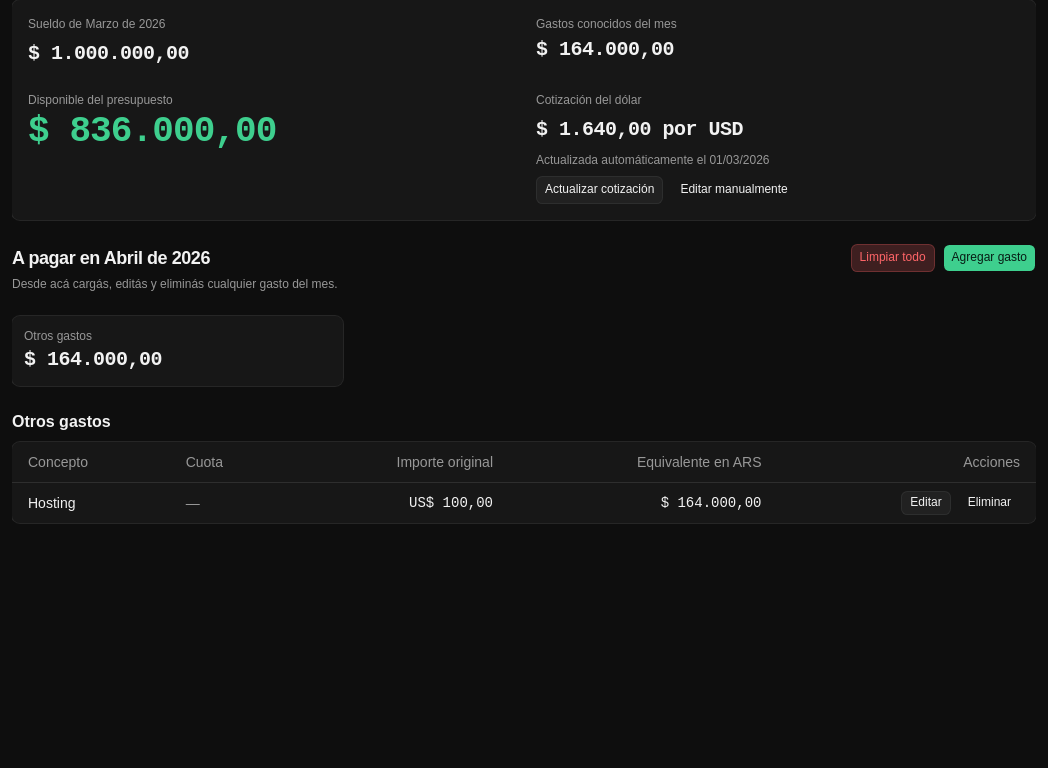
Test: MonthlyBudgetPage › cotización del mes › conserva la cotización anterior cuando falla la consulta
Click the button "Actualizar cotización" at {"x": 600, "y": 190}, box top-left (536, 176), bottom-right (663, 204)
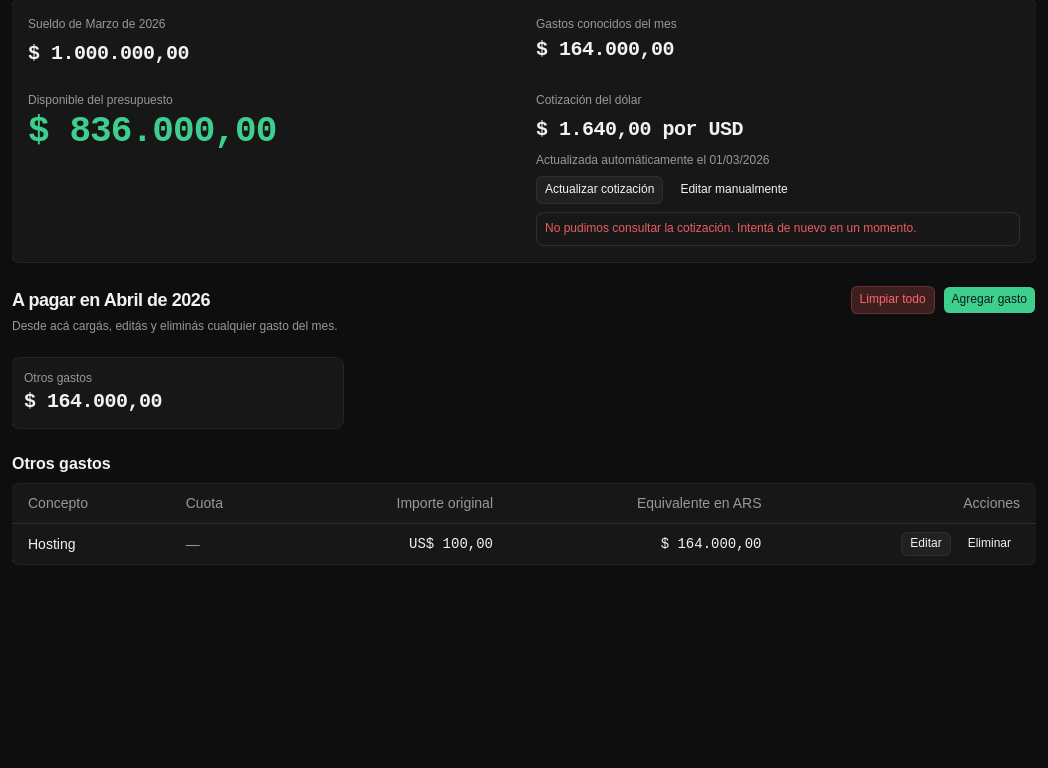
Expected: the text "$ 1.640,00 por USD" is shown, top-left (536, 118), bottom-right (743, 141)
Expected: the text "No pudimos consultar la cotización. Intentá de nuevo en un momento." is shown, top-left (545, 221), bottom-right (917, 235)
